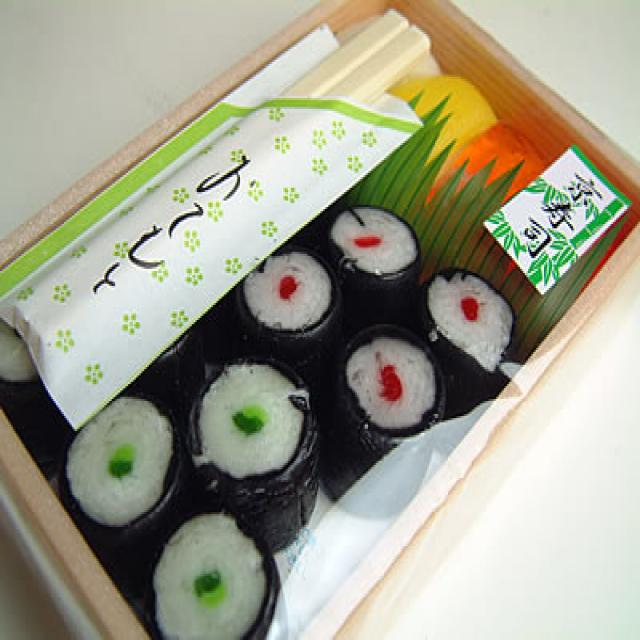寿司卷物: (55, 170, 542, 636)
